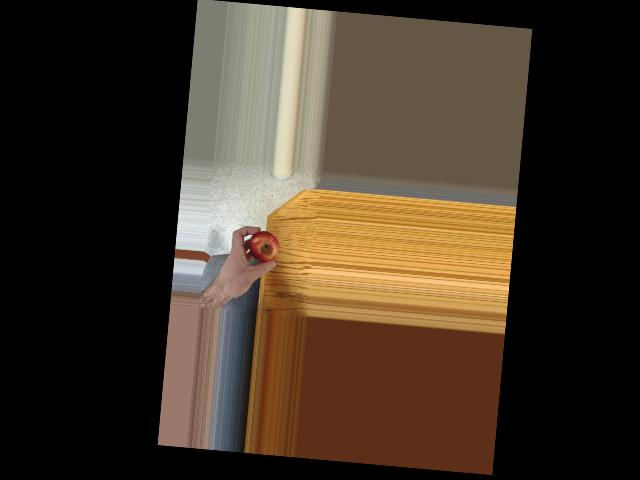apple: (249, 229, 280, 264)
